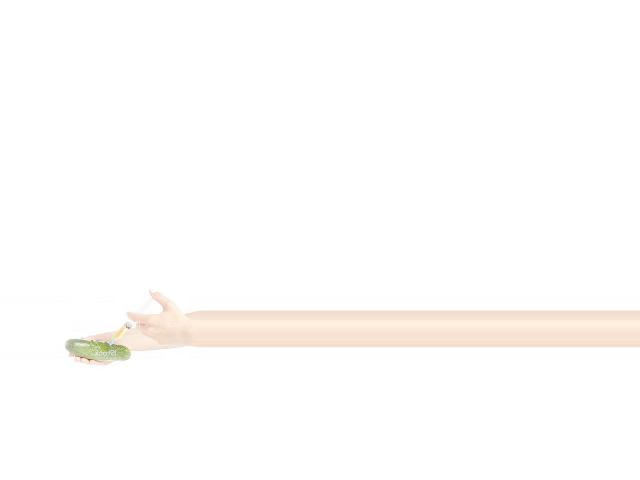cucumber: (63, 339, 130, 360)
